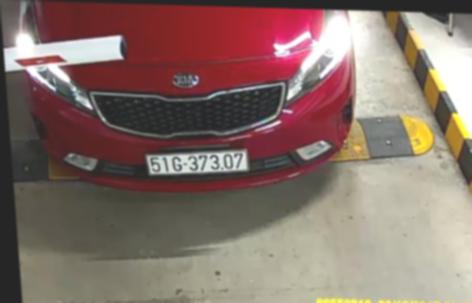License_Plate: (144, 147, 252, 179)
